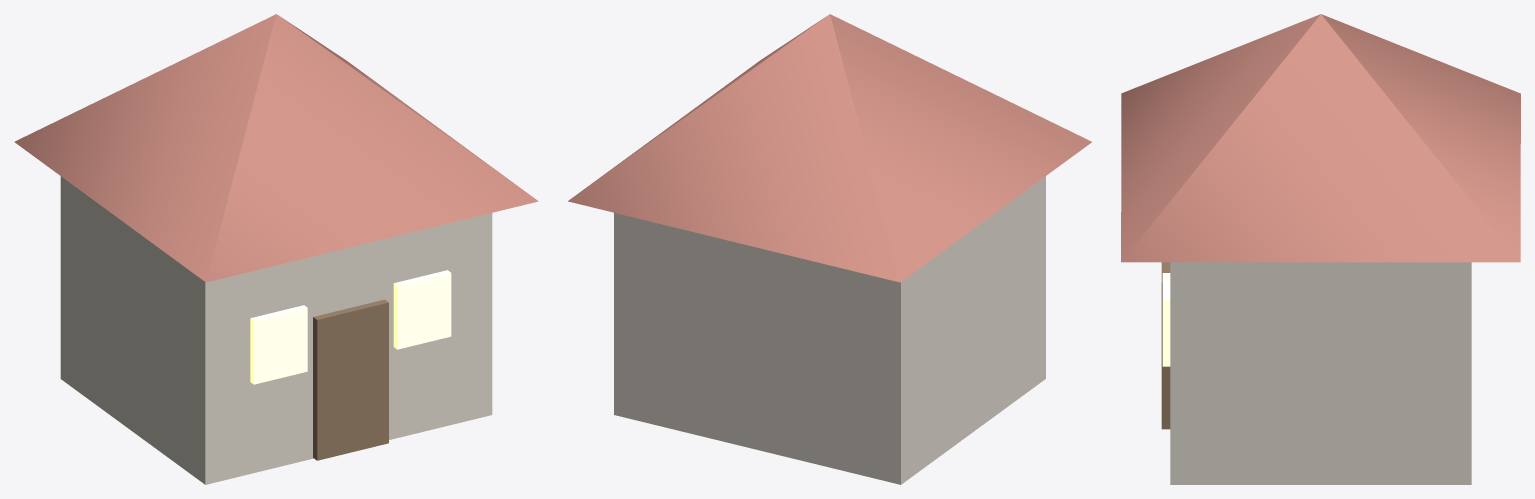
File: house_small.glb
3 renders of one model, left to right at view 1: azimuth 30°, elevation 25°; view 2: azimuth 150°, elevation 25°; view 3: azimuth 270°, elevation 25°, orthographic. The views are drawn at different scales.
Visible parts, largest first — view 1: house_small; view 2: house_small; view 3: house_small.
Boxes of the visible parts, <box> form: house_small: <box>14,14,538,484</box>; house_small: <box>568,14,1091,484</box>; house_small: <box>1121,14,1520,484</box>.
Bounding box in the file's own units: 1.86 × 2.04 × 1.86.
